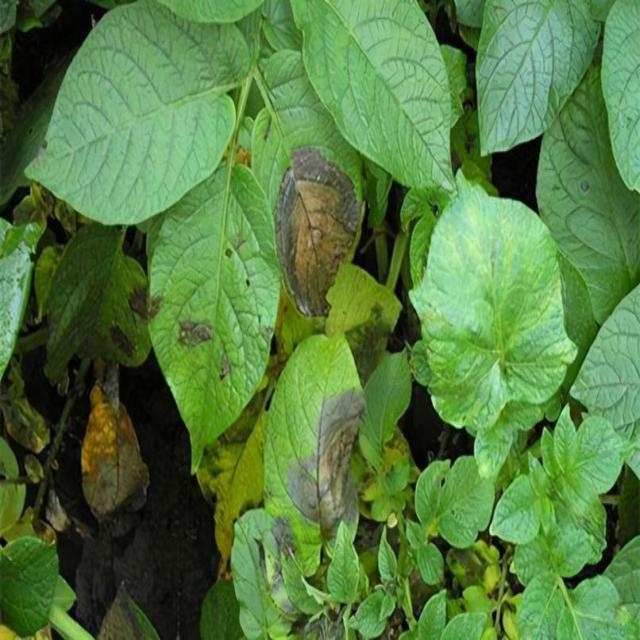Early_blight: (272, 144, 362, 319), (282, 384, 360, 544), (80, 385, 149, 530), (91, 583, 144, 640), (175, 315, 215, 352), (268, 514, 298, 562), (127, 283, 164, 321), (108, 320, 139, 360)
